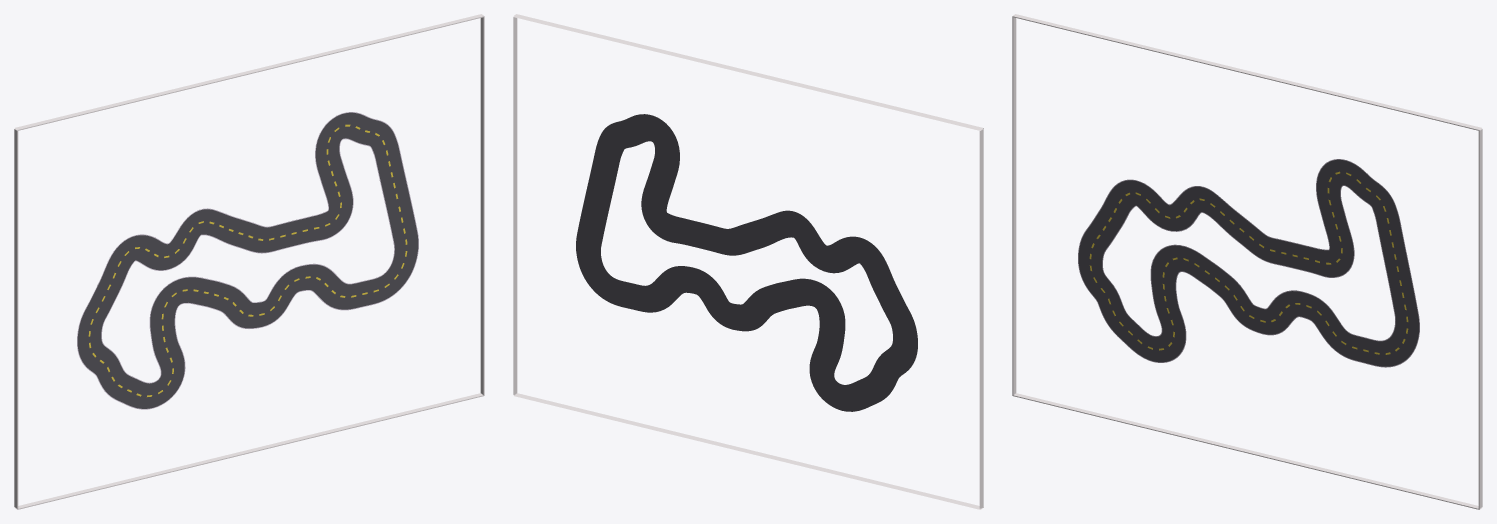
The model's file is track.obj.
The picture shows the model from 3 angles, left to right: view 1: azimuth 30°, elevation 25°; view 2: azimuth 150°, elevation 25°; view 3: azimuth 330°, elevation 25°; orthographic projection.
Size of the model in its own units: 27.07 by 21.03 by 0.3.
